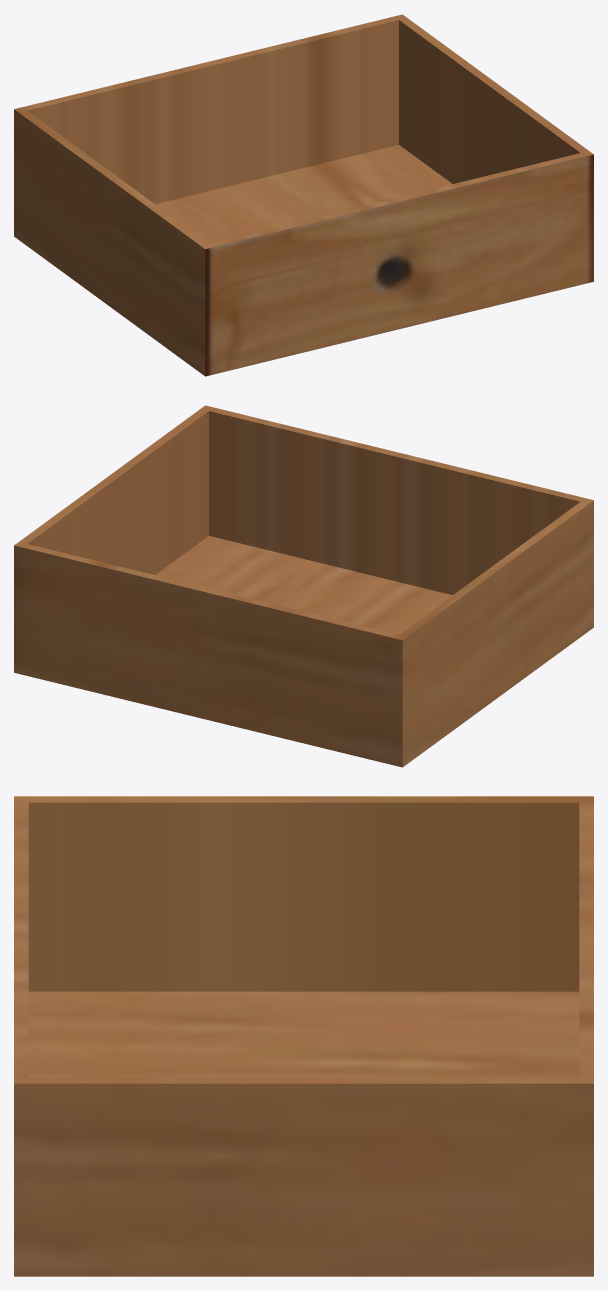
Rendered from Chest_drawers_03_004-col.glb.
3 renders of one model, top to bottom at view 1: azimuth 30°, elevation 25°; view 2: azimuth 150°, elevation 25°; view 3: azimuth 270°, elevation 25°, orthographic. The views are drawn at different scales.
Parts seen in each view (by area): view 1: Chest_drawers_03.004-col; view 2: Chest_drawers_03.004-col; view 3: Chest_drawers_03.004-col.
Boxes of the visible parts, x1,y1,x2,y2 form: Chest_drawers_03.004-col: (14,14,593,376); Chest_drawers_03.004-col: (14,405,593,767); Chest_drawers_03.004-col: (14,796,593,1276).
Bounding box in the file's own units: 1.88 × 0.5868 × 1.6.
1 material, 1 textured.
